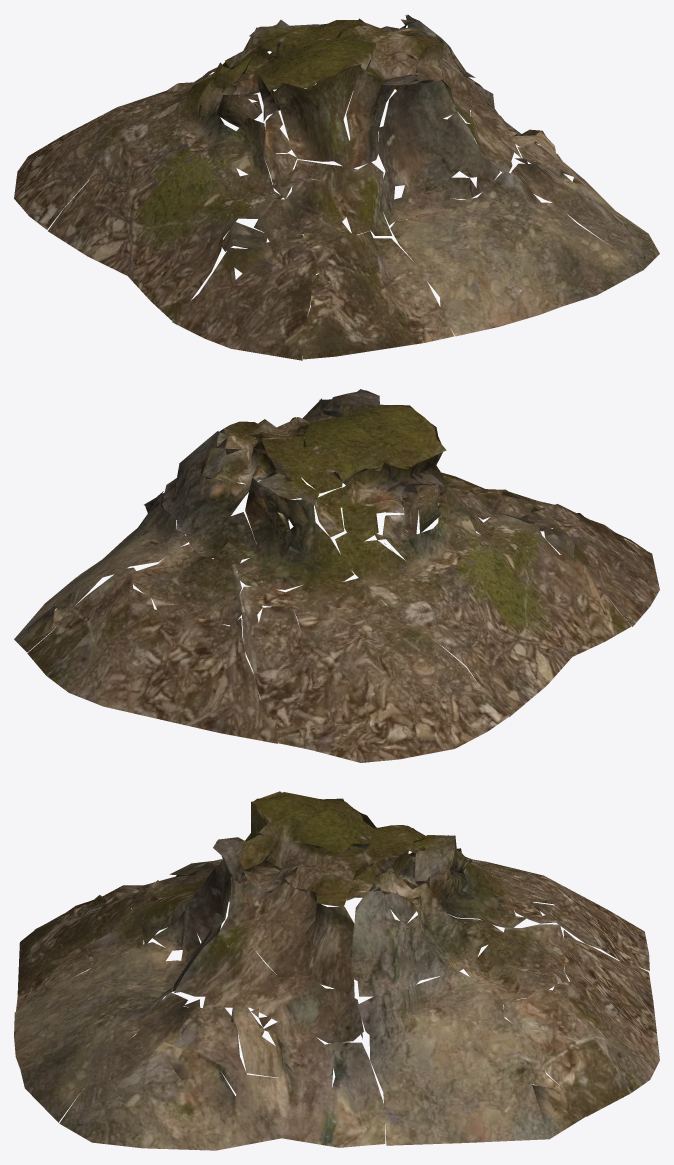
Rendered from stump1_lo.glb.
3 views of the same model, one above another, from view 1: azimuth 30°, elevation 25°; view 2: azimuth 150°, elevation 25°; view 3: azimuth 270°, elevation 25° (orthographic). The views are drawn at different scales.
Parts seen in each view (by area): view 1: tree_stump_01; view 2: tree_stump_01; view 3: tree_stump_01.
Part boxes in pixels (x1,y1,x2,y2): tree_stump_01: (14,14,659,360); tree_stump_01: (14,389,659,762); tree_stump_01: (14,791,659,1150).
Size of the model in its own units: 1.42 by 0.5678 by 1.59.
1 material, 1 textured.
